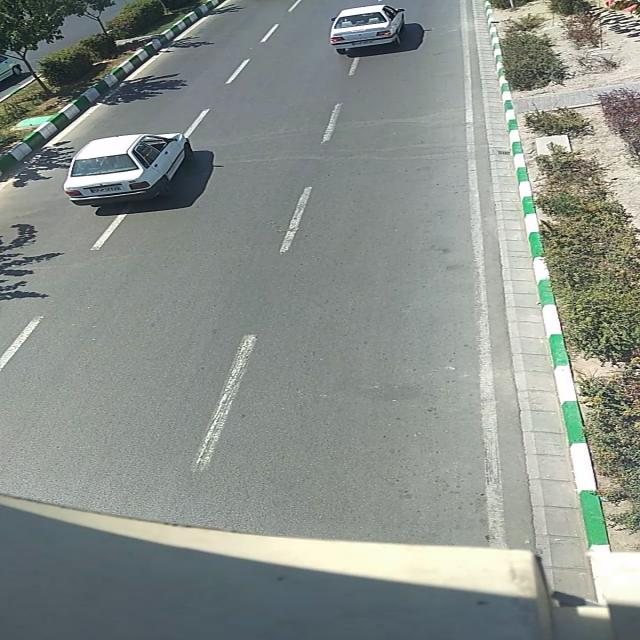car: (66, 133, 188, 207), (329, 5, 405, 55)
